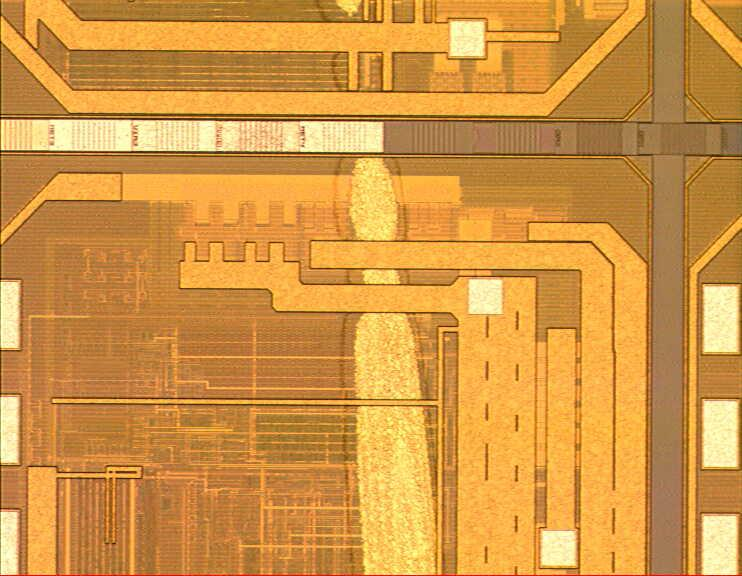BLOCK ETCH: (320, 1, 455, 576)
